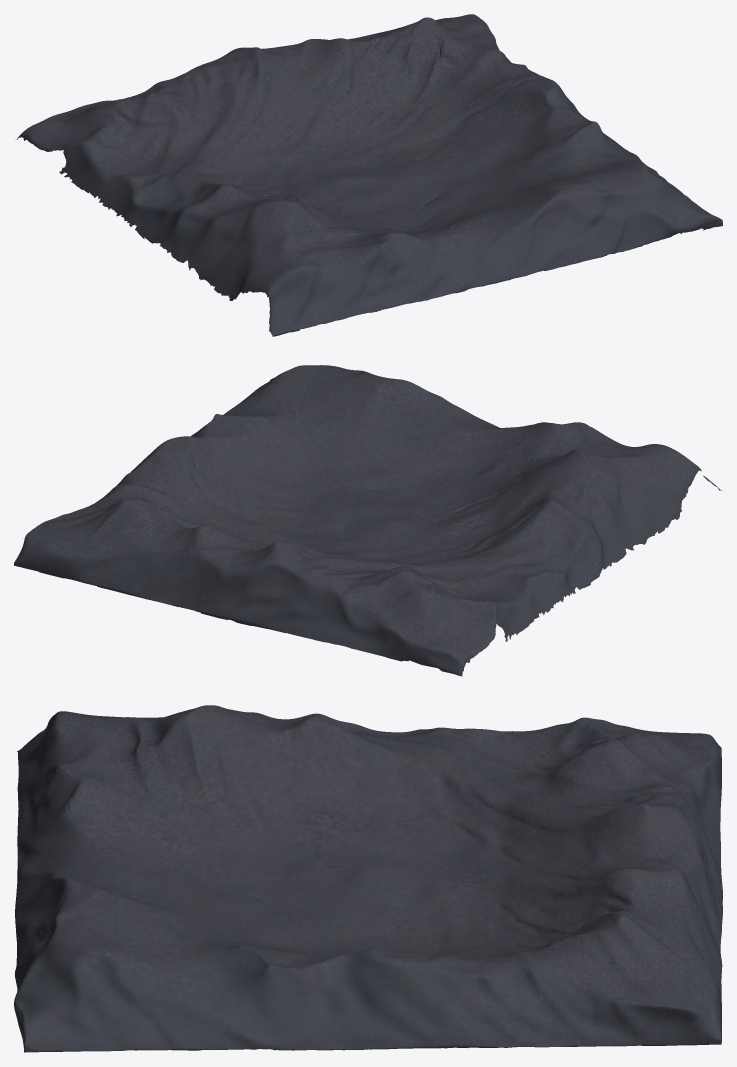
3 views of the same model, one above another, from view 1: azimuth 30°, elevation 25°; view 2: azimuth 150°, elevation 25°; view 3: azimuth 270°, elevation 25° (orthographic). The views are drawn at different scales.
Parts seen in each view (by area): view 1: desert; view 2: desert; view 3: desert.
Boxes of the visible parts, x1=… form: desert: x1=16, y1=14, x2=722, y2=336; desert: x1=14, y1=365, x2=722, y2=676; desert: x1=14, y1=705, x2=722, y2=1052.
Size of the model in its own units: 19.79 by 3.01 by 19.76.
1 material, 1 textured.
